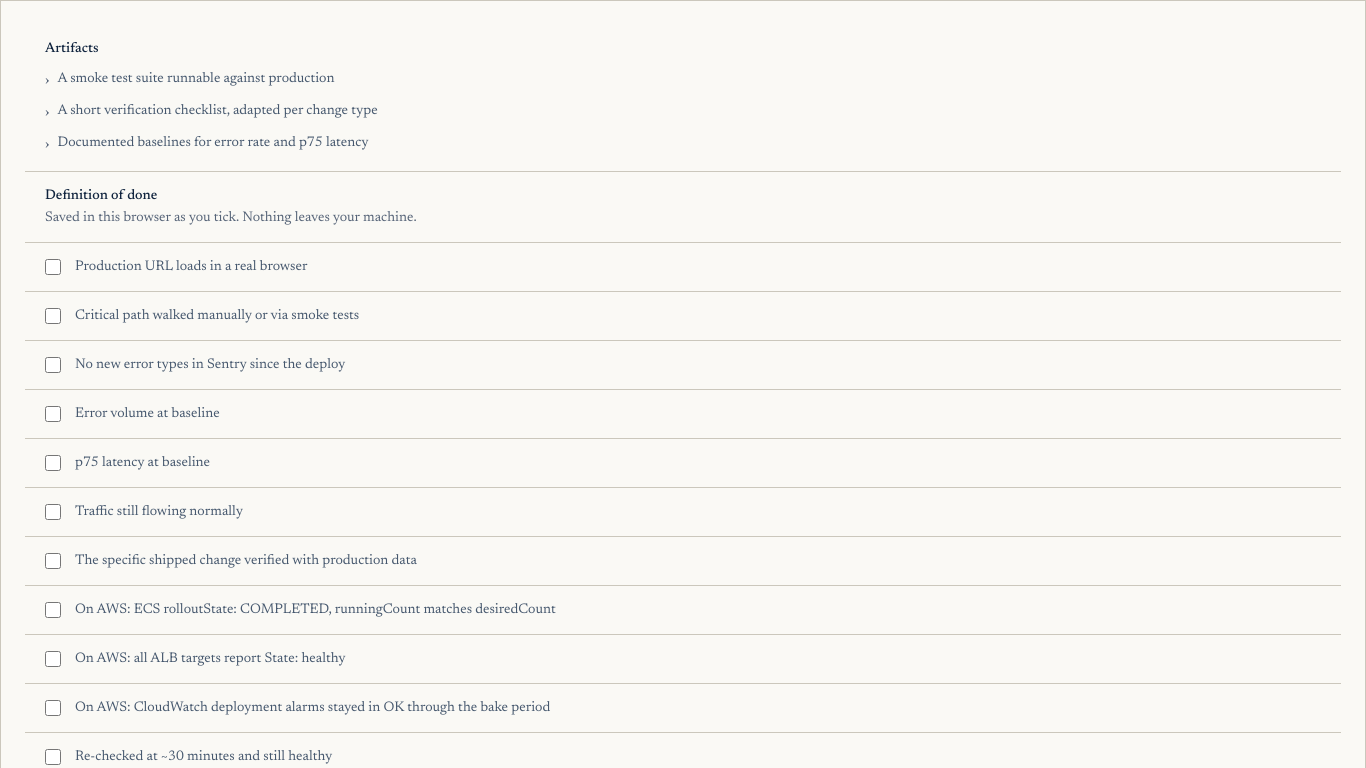
Test: VerificationChecklist › ticking a checkbox persists and shows count
The width and height of the screenshot is (1366, 768).
Click the checkbox labelled "Production URL loads in a real browser": (53, 267) left=45, top=259, right=61, bottom=275
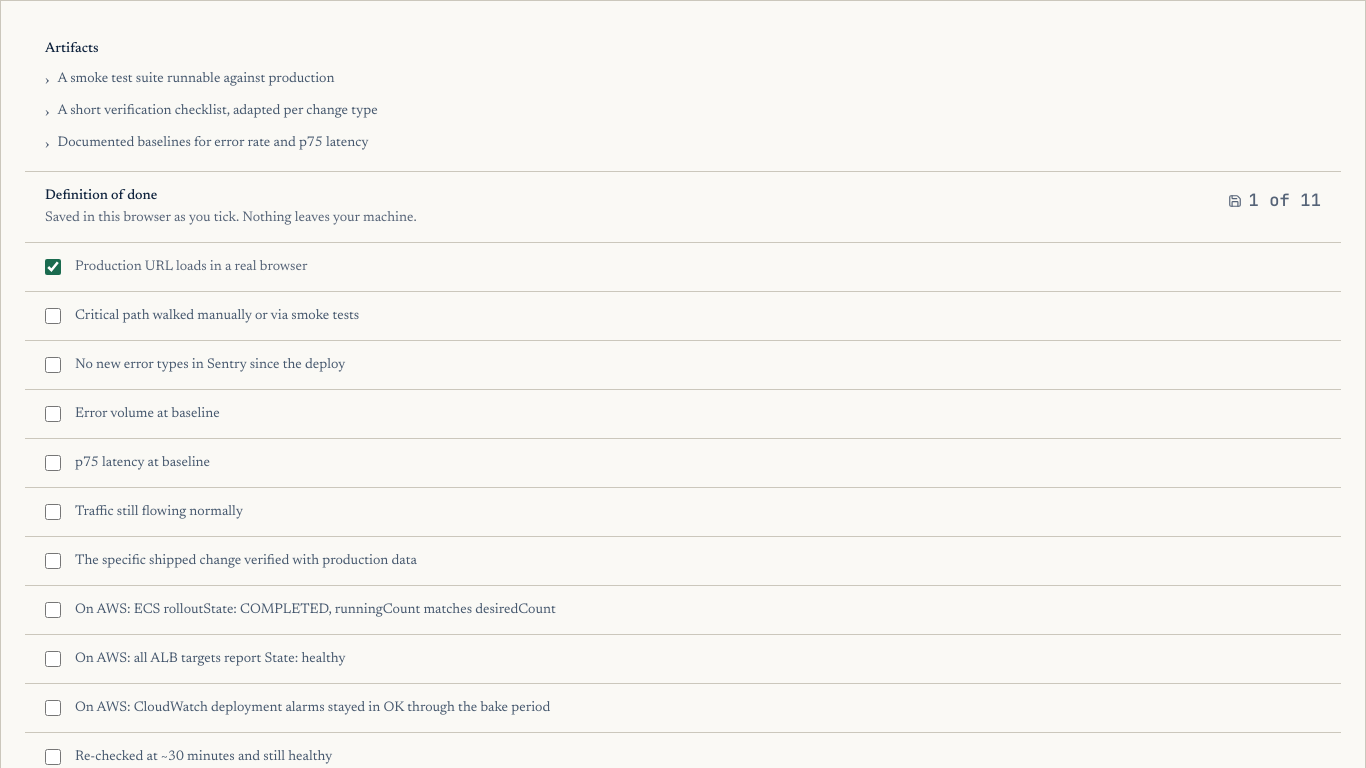
Expected: the checkbox labelled "Production URL loads in a real browser" is checked, left=45, top=259, right=61, bottom=275
Expected: the text "1 of 11" is shown, left=1228, top=186, right=1321, bottom=216
